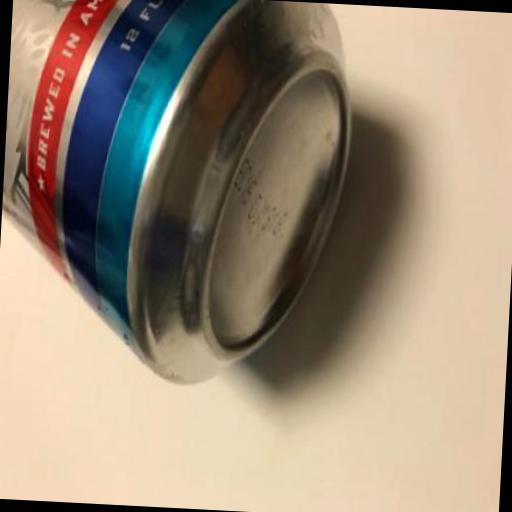metal: (0, 0, 359, 394)
